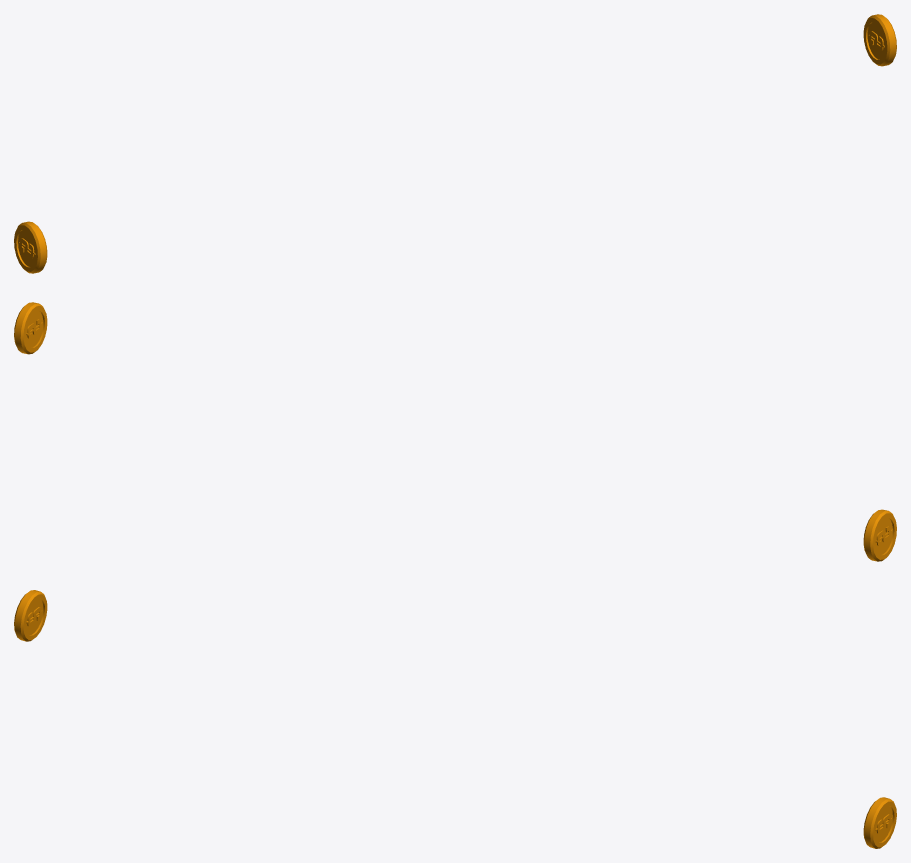
The model's file is coin_new_lev1.glb.
The picture shows the model from 3 angles, top to bottom: view 1: azimuth 30°, elevation 25°; view 2: azimuth 150°, elevation 25°; view 3: azimuth 330°, elevation 25°; orthographic projection.
Visible parts, largest first — view 1: coin_new_lev1; view 2: coin_new_lev1; view 3: coin_new_lev1.
Part boxes in pixels (<box>): coin_new_lev1: <box>14,14,896,273</box>; coin_new_lev1: <box>14,302,896,561</box>; coin_new_lev1: <box>14,590,896,848</box>.
Bounding box in the file's own units: 38.2 × 1.98 × 2.
